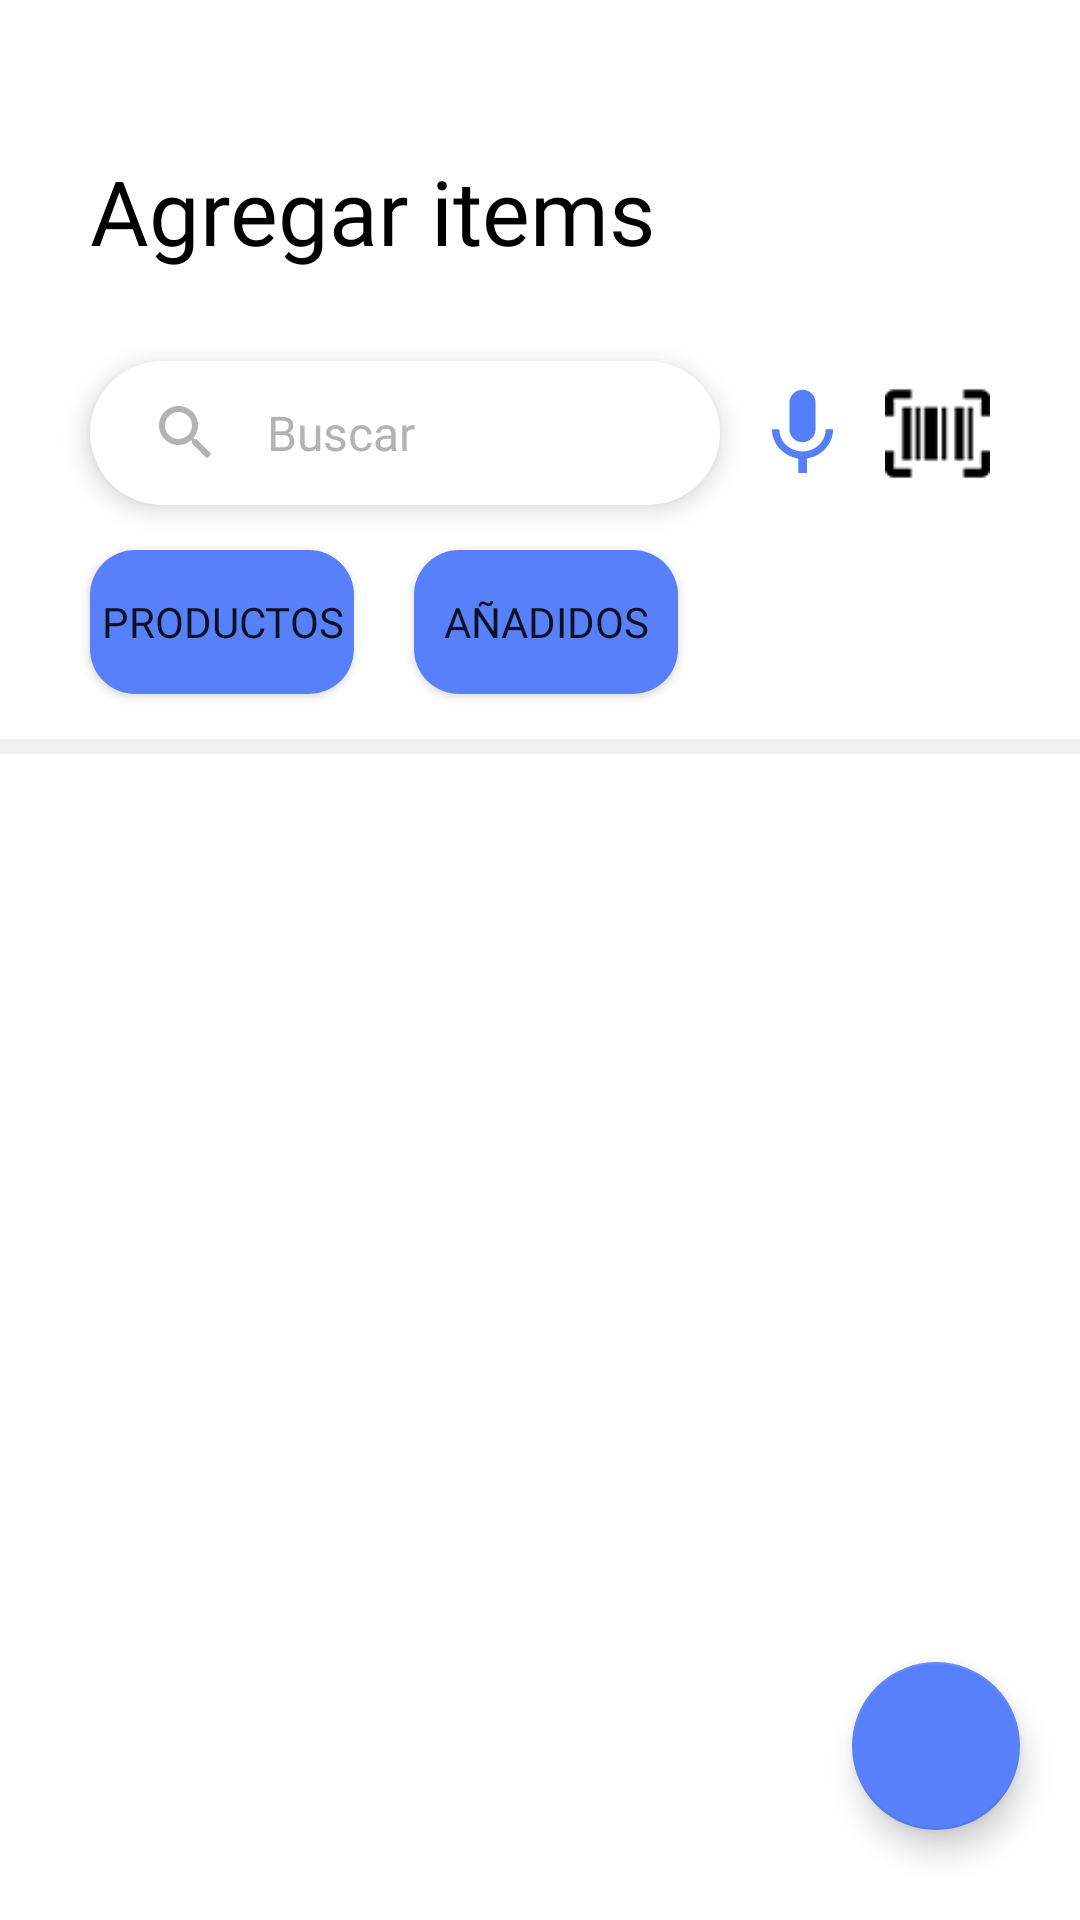

Point at icon controls on the screen. Image size 1080px×1920px, points as (x,y).
mic: (802,431)
scanner: (937,433)
